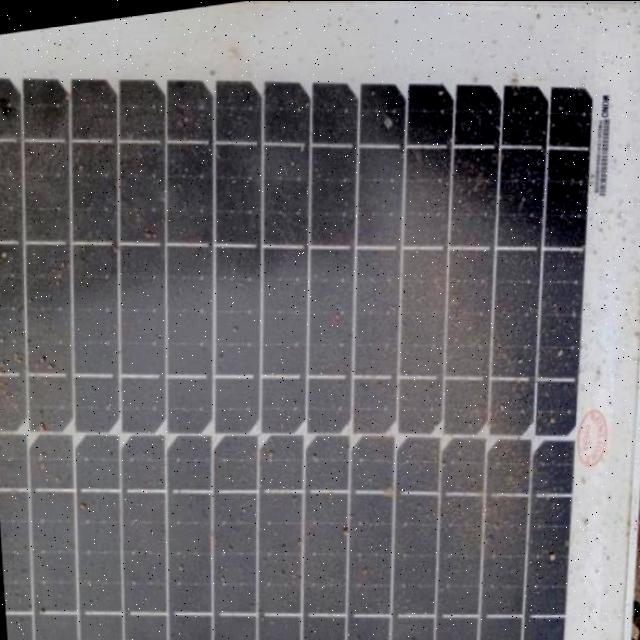Surface Contaminant: (0, 42, 593, 640)
